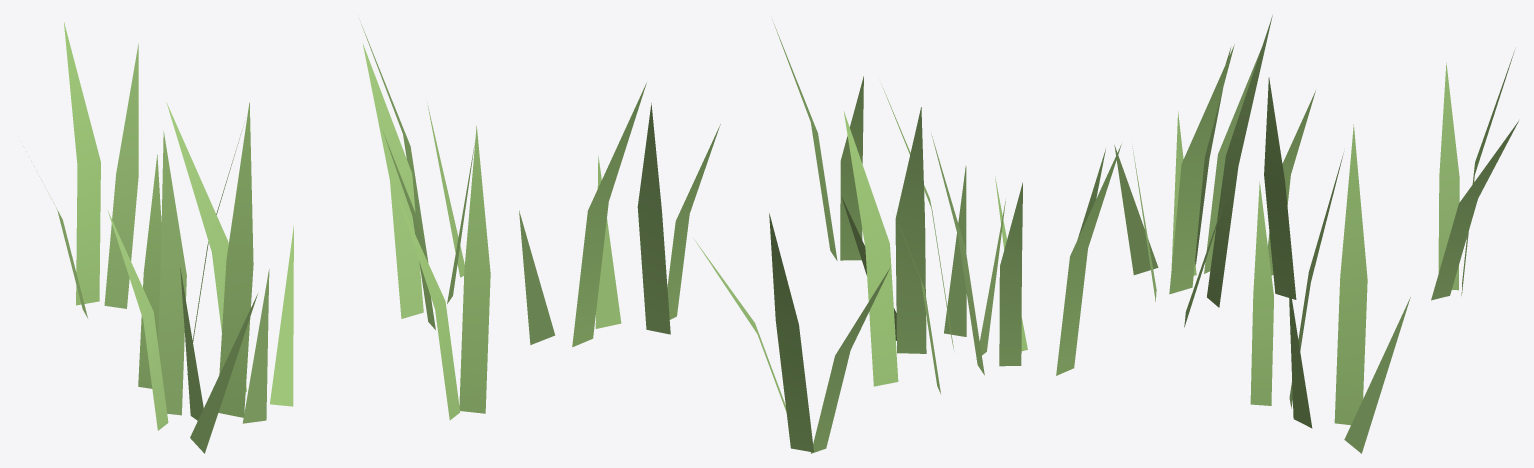
Rendered from Grass_b_OneS_07.fbx.
The picture shows the model from 3 angles, left to right: view 1: azimuth 30°, elevation 25°; view 2: azimuth 150°, elevation 25°; view 3: azimuth 270°, elevation 25°; orthographic projection. The views are drawn at different scales.
Parts seen in each view (by area): view 1: Grass_b_OneS_07; view 2: Grass_b_OneS_07; view 3: Grass_b_OneS_07.
Part boxes in pixels (x1=…): Grass_b_OneS_07: x1=23, y1=22, x2=490, y2=453; Grass_b_OneS_07: x1=519, y1=19, x2=1027, y2=453; Grass_b_OneS_07: x1=1056, y1=15, x2=1518, y2=453.
Bounding box in the file's own units: 73.63 × 47.99 × 72.47.
